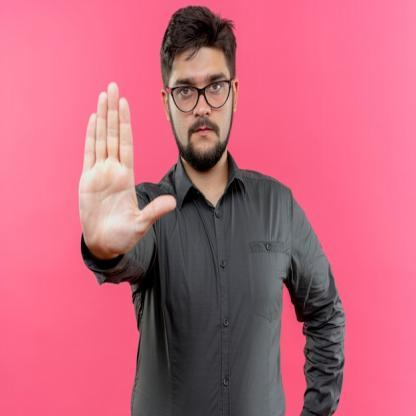stop: (77, 81, 178, 261)
